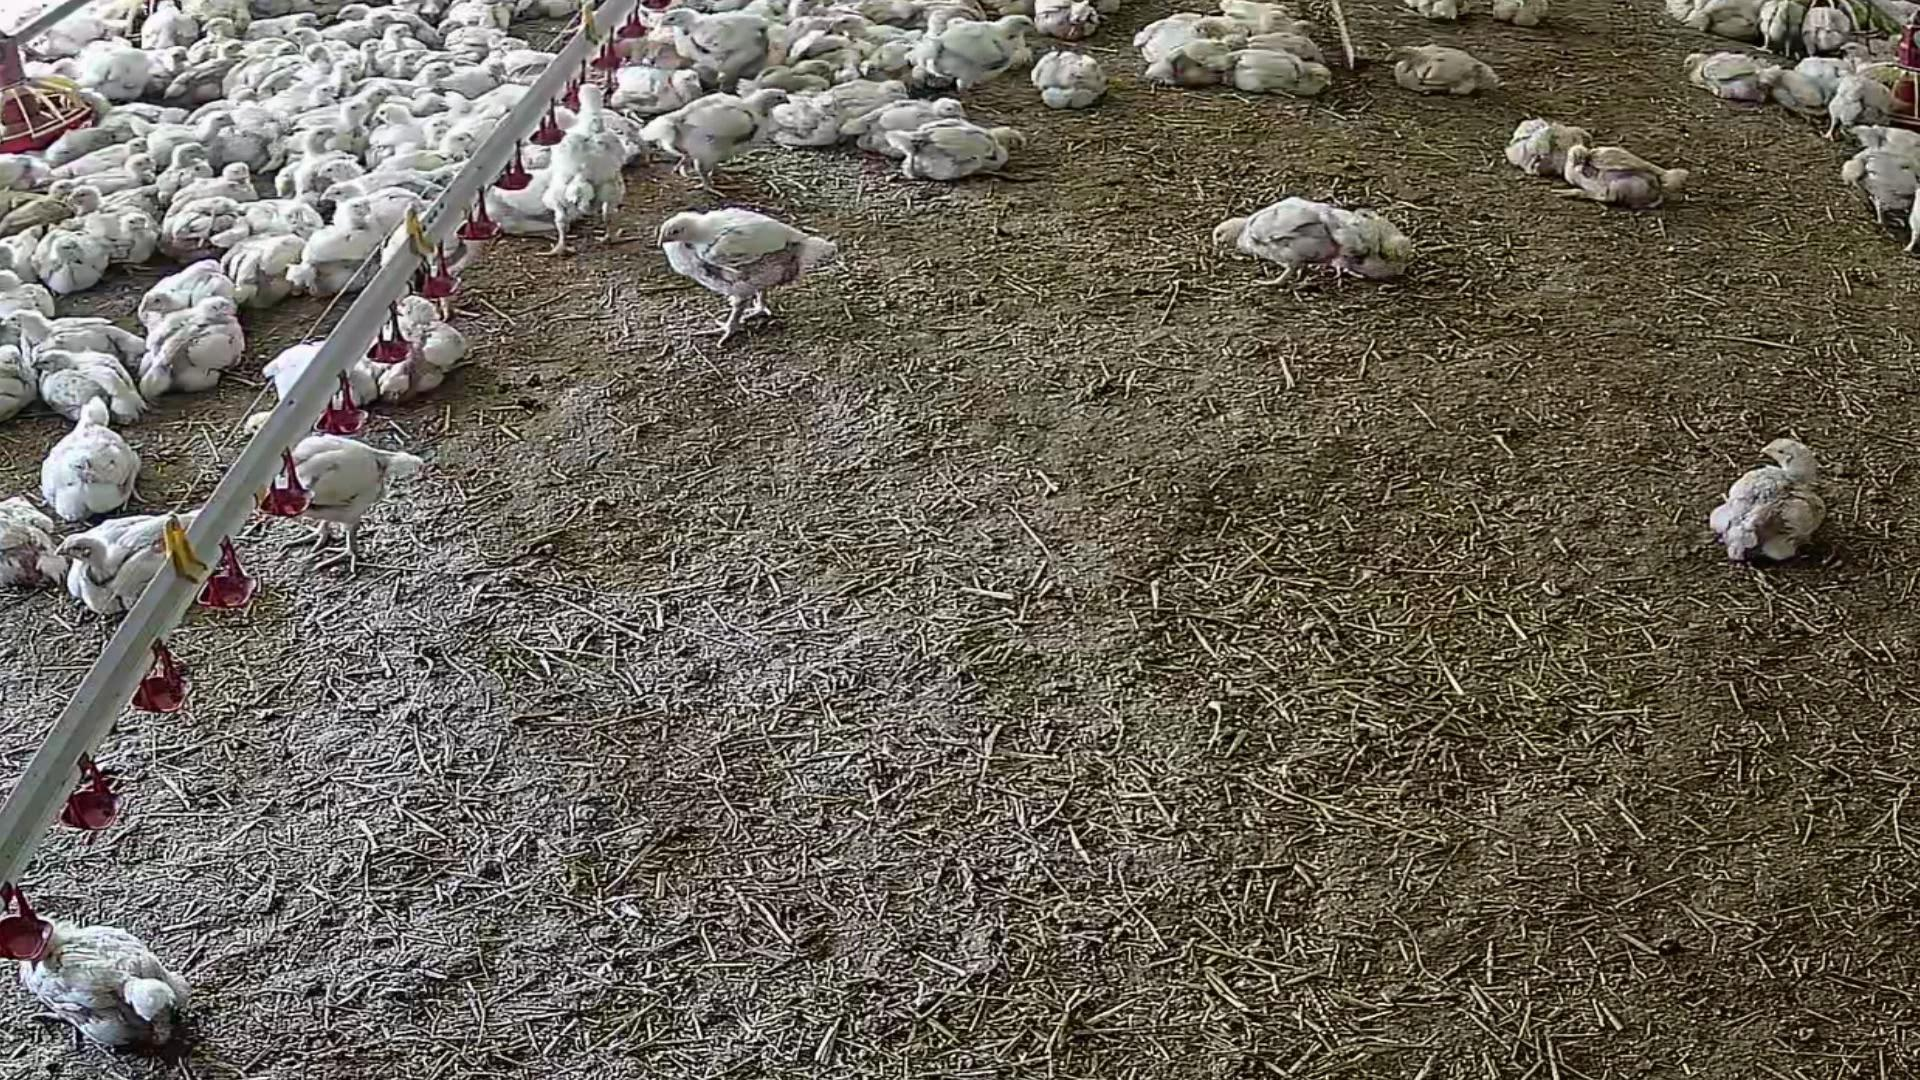poussin: (4, 899, 182, 1063), (654, 199, 840, 338), (47, 517, 222, 622), (253, 422, 385, 560), (1713, 436, 1826, 568), (265, 302, 382, 422), (545, 87, 625, 258), (132, 291, 257, 400), (646, 90, 794, 178), (1200, 198, 1346, 285), (467, 167, 603, 251), (47, 388, 127, 520), (905, 16, 1040, 90), (773, 73, 911, 142), (661, 8, 771, 94), (895, 119, 1026, 191), (382, 306, 463, 410), (303, 190, 375, 302), (852, 94, 972, 160), (538, 98, 646, 170), (1568, 146, 1687, 211), (605, 53, 709, 125), (1844, 141, 1920, 232), (28, 363, 152, 418), (1344, 206, 1419, 297), (233, 212, 309, 301), (21, 314, 140, 368), (316, 182, 425, 240), (1381, 45, 1501, 95), (0, 488, 55, 595), (86, 42, 187, 100), (224, 185, 332, 235), (9, 5, 104, 61), (0, 182, 74, 251), (28, 116, 137, 162), (484, 131, 589, 174), (1763, 61, 1847, 115), (1033, 51, 1109, 109), (361, 129, 476, 167), (833, 17, 923, 66), (1684, 47, 1772, 95), (414, 57, 514, 98), (1513, 120, 1586, 175), (1151, 44, 1242, 88), (0, 272, 55, 344), (37, 229, 109, 281), (181, 44, 243, 103), (140, 116, 223, 160), (63, 150, 152, 191), (1825, 80, 1905, 125), (78, 219, 162, 261), (166, 203, 245, 248), (439, 15, 517, 59), (55, 138, 153, 174), (135, 0, 202, 51), (170, 166, 257, 206), (228, 42, 297, 92), (1834, 116, 1920, 156), (1226, 54, 1298, 102), (326, 99, 377, 161), (613, 0, 702, 36), (264, 83, 343, 123), (752, 55, 843, 90), (1803, 3, 1858, 58), (1230, 36, 1333, 65), (1688, 0, 1763, 40), (444, 88, 535, 120), (351, 178, 465, 203), (1763, 0, 1815, 55), (1279, 51, 1336, 100), (76, 182, 153, 218), (1137, 18, 1236, 45), (284, 121, 326, 182), (1035, 0, 1104, 36), (323, 13, 397, 46), (244, 16, 319, 47), (378, 22, 425, 74), (1, 342, 25, 438), (1888, 186, 1920, 256), (194, 88, 253, 124), (289, 26, 340, 66), (7, 149, 47, 198), (787, 36, 855, 65), (339, 4, 425, 26), (1487, 0, 1549, 29), (401, 66, 456, 98), (1229, 20, 1328, 37), (389, 99, 421, 152), (208, 17, 261, 47), (121, 102, 189, 124), (352, 38, 380, 90), (785, 17, 849, 38), (1407, 0, 1466, 21), (5, 239, 41, 273), (1220, 0, 1298, 15), (322, 66, 351, 102), (1844, 42, 1880, 70), (394, 51, 421, 90)
